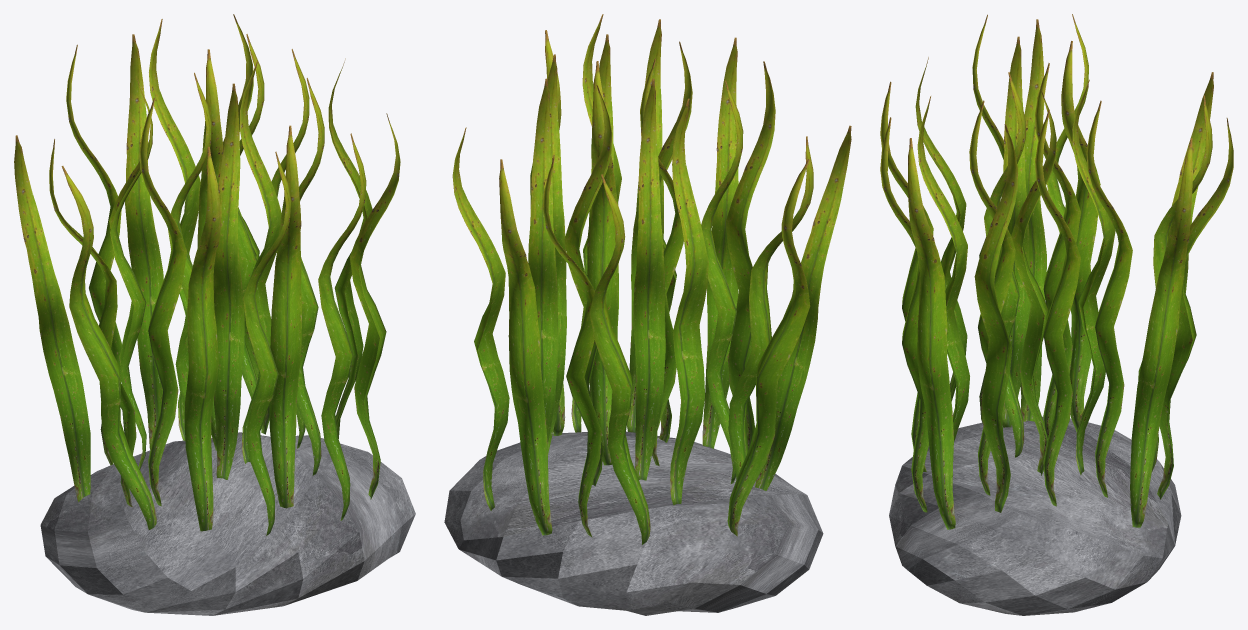
The model's file is RocaConPasto.fbx.
3 renders of one model, left to right at view 1: azimuth 30°, elevation 25°; view 2: azimuth 150°, elevation 25°; view 3: azimuth 270°, elevation 25°, orthographic. The views are drawn at different scales.
Visible parts, largest first — view 1: Plane.002, Cube; view 2: Plane.002, Cube; view 3: Plane.002, Cube.
Boxes of the visible parts, box(x1,y1,x2,y2) form: Plane.002: box(14, 14, 400, 535); Cube: box(40, 432, 415, 615); Plane.002: box(452, 14, 851, 544); Cube: box(444, 431, 823, 615); Plane.002: box(880, 14, 1233, 529); Cube: box(889, 416, 1181, 615).
Bounding box in the file's own units: 352 × 474 × 306.
Materials: 23 (23 with a texture image).
